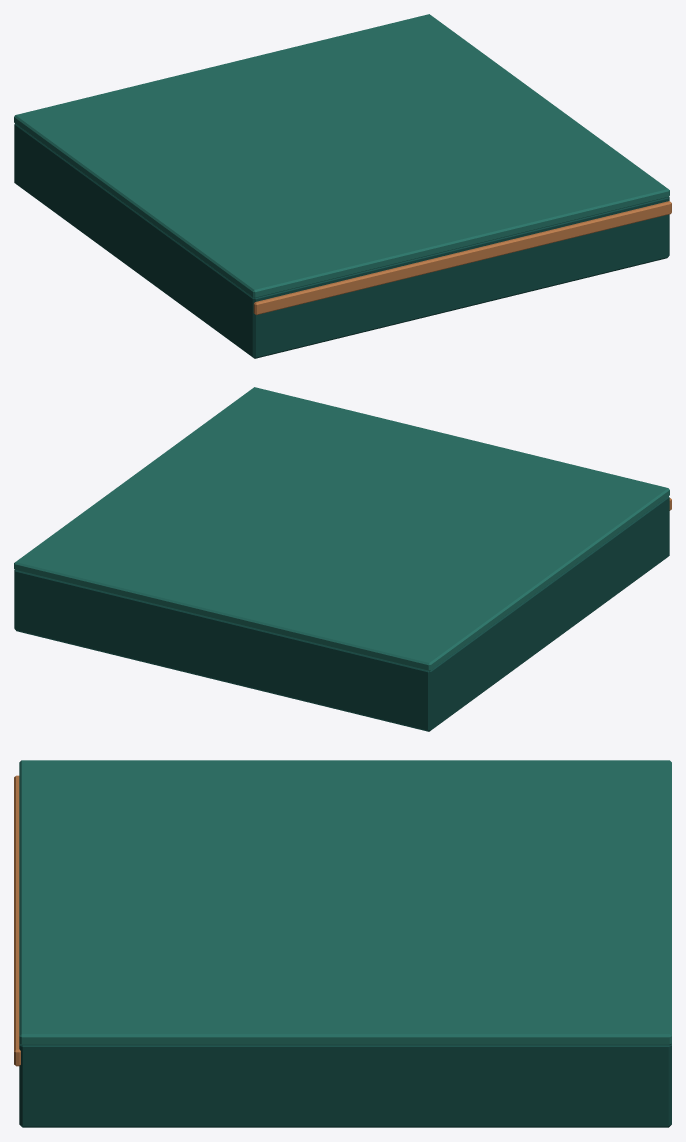
Rendered from stage_module.glb.
3 views of the same model, one above another, from view 1: azimuth 30°, elevation 25°; view 2: azimuth 150°, elevation 25°; view 3: azimuth 270°, elevation 25° (orthographic). The views are drawn at different scales.
Parts seen in each view (by area): view 1: Carpete contínuo, Estrutura do palco, Acabamento em madeira; view 2: Carpete contínuo, Estrutura do palco; view 3: Carpete contínuo, Estrutura do palco, Acabamento em madeira.
Boxes of the visible parts, x1,y1,x2,y2 form: Carpete contínuo: [14, 14, 669, 298]; Estrutura do palco: [14, 123, 669, 358]; Acabamento em madeira: [253, 201, 671, 314]; Carpete contínuo: [14, 387, 669, 671]; Estrutura do palco: [14, 496, 669, 731]; Carpete contínuo: [19, 760, 671, 1045]; Estrutura do palco: [19, 1044, 671, 1127]; Acabamento em madeira: [14, 775, 20, 1066].
Size of the model in its own units: 2.5 by 0.3975 by 2.52.
